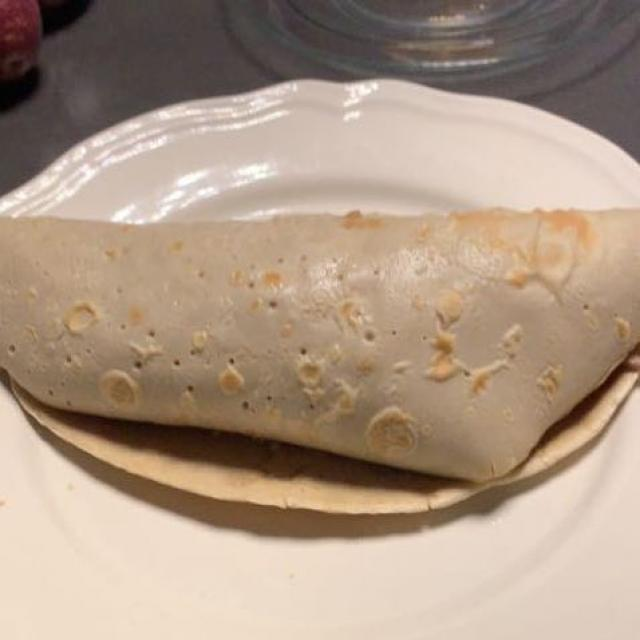crepe: (23, 209, 635, 478)
